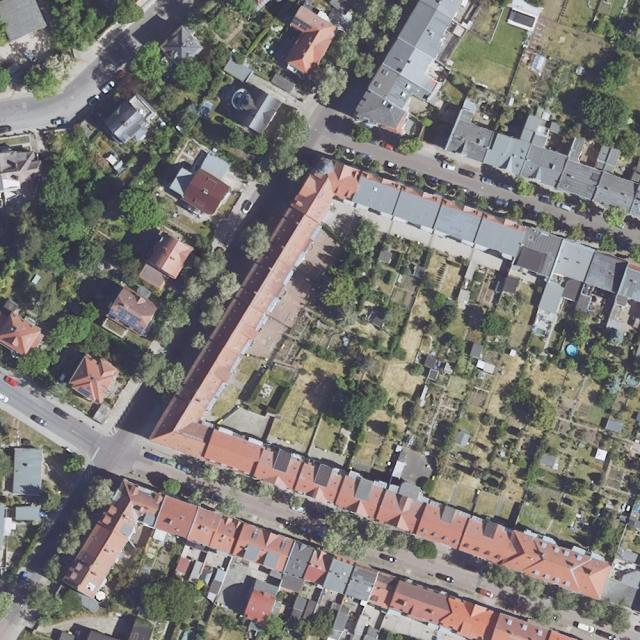PV: (108, 304, 145, 334), (290, 16, 313, 31), (77, 387, 91, 399)
